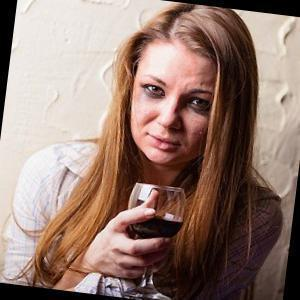Drunk: (136, 48, 214, 161)
